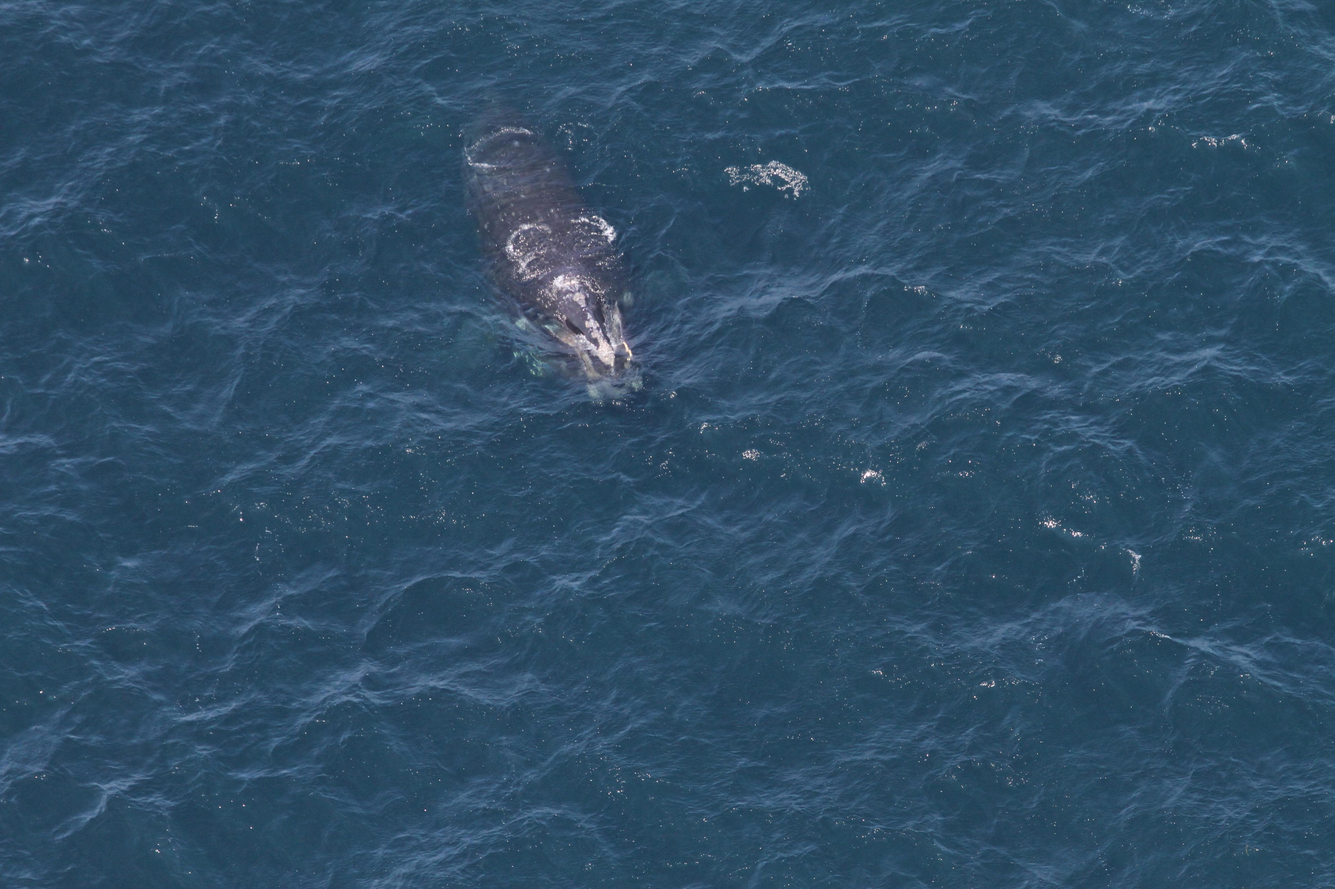whale: (413, 0, 687, 428)
